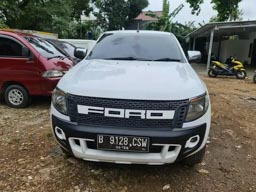plat: (97, 136, 150, 146)
